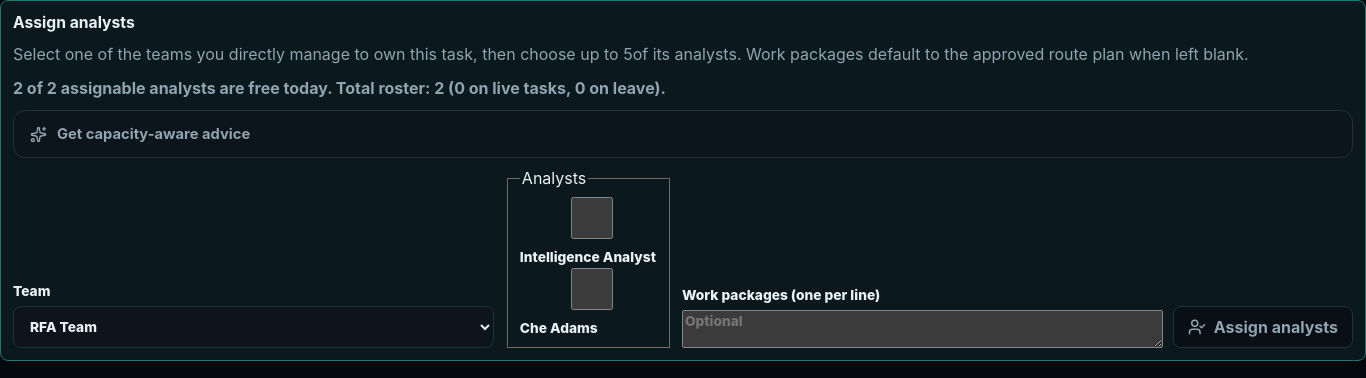
Scenario: keeps the assign action disabled until an analyst is selected
This screenshot has width=1366, height=378.
Check: the button "Assign analysts" is disabled, box [1173,306,1353,348]
// Unticking the only selected analyst disables the action again.
Click the checkbox labelled "Intelligence Analyst" at x=592, y=218, box [524,197,660,239]
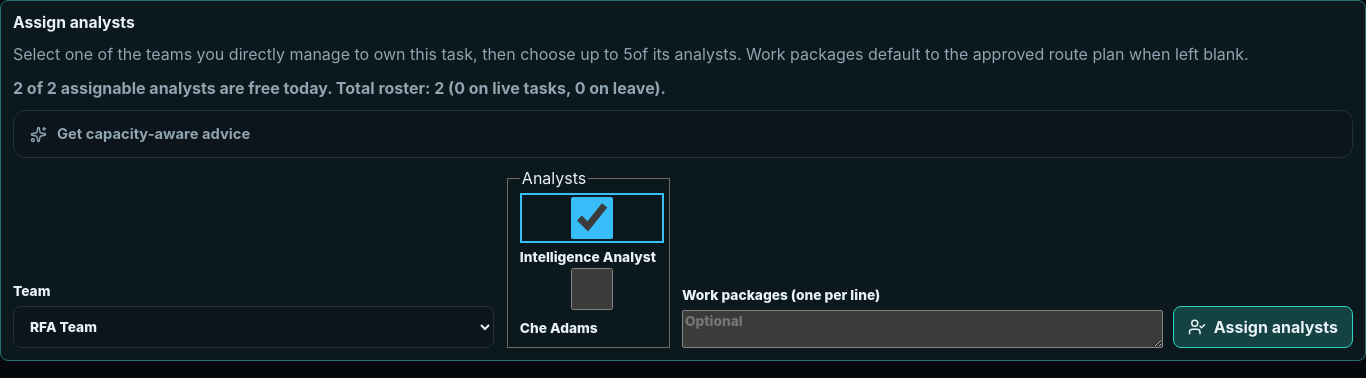
Check: the button "Assign analysts" is enabled, box [1173,306,1353,348]
Click the checkbox labelled "Intelligence Analyst" at x=592, y=218, box [524,197,660,239]
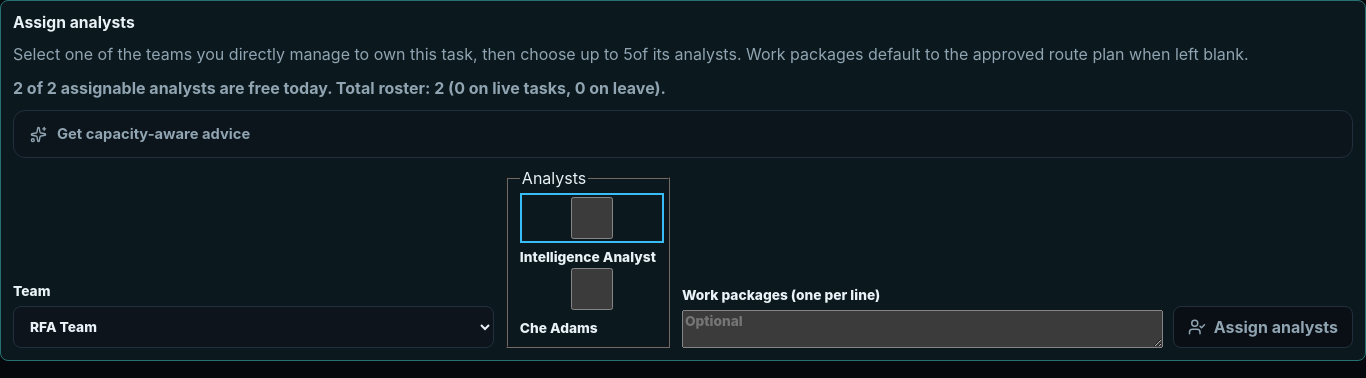
Check: the button "Assign analysts" is disabled, box [1173,306,1353,348]
